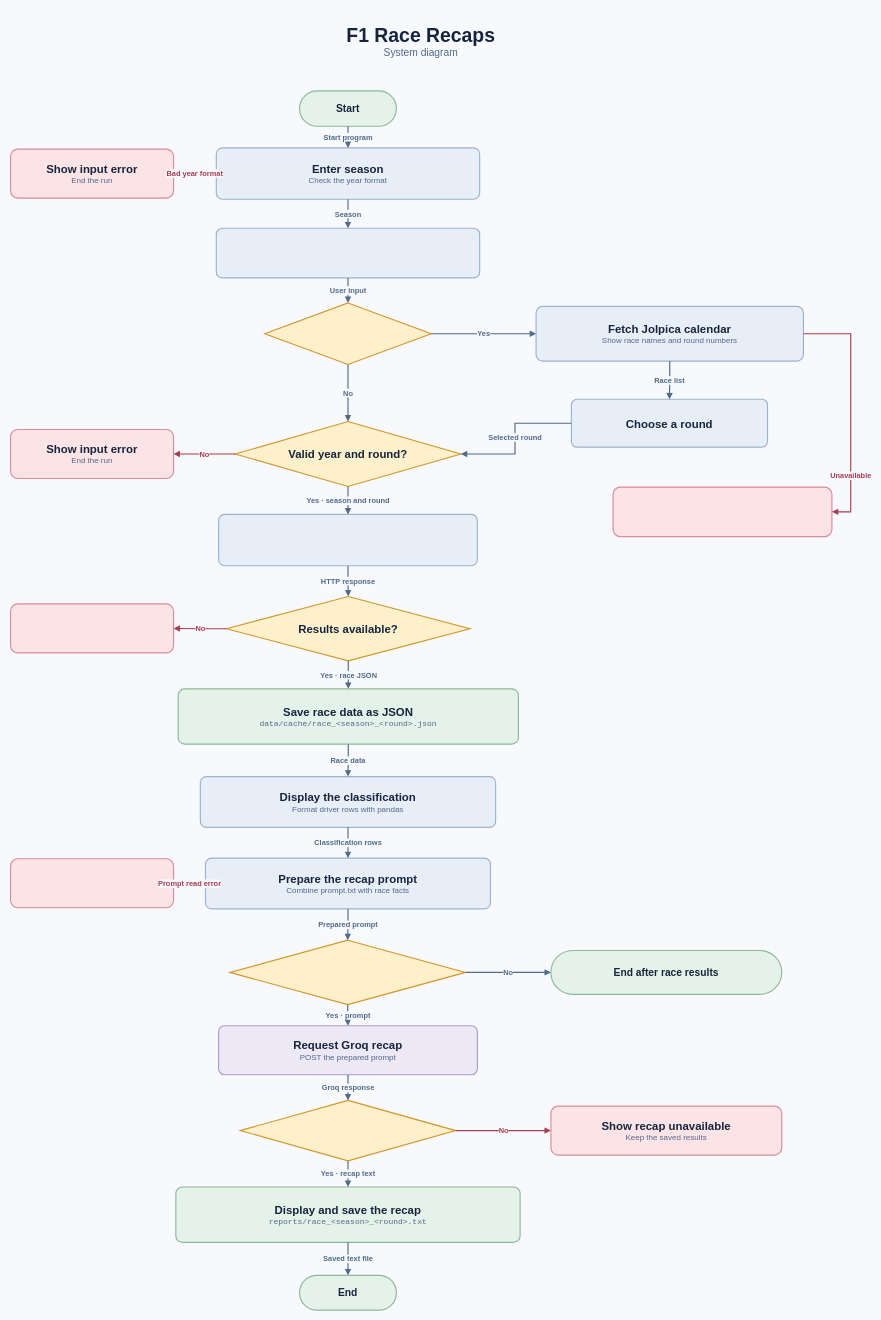
The diagram is 881 pixels wide and 1320 high, and some of its shapes have lost their labels. Here are the shapes that lost their labels. From the top down, the centre of each, then its label:
At (347,252): "Enter a round or type ls".
At (347,333): "Typed ls?".
At (722,511): "Show calendar error End the run".
At (348,540): "Fetch Jolpica results GET the selected race".
At (92,628): "Show results error End the run".
At (92,883): "Show prompt error End the run".
At (347,972): "Groq key configured?".
At (347,1130): "Request succeeds?".
